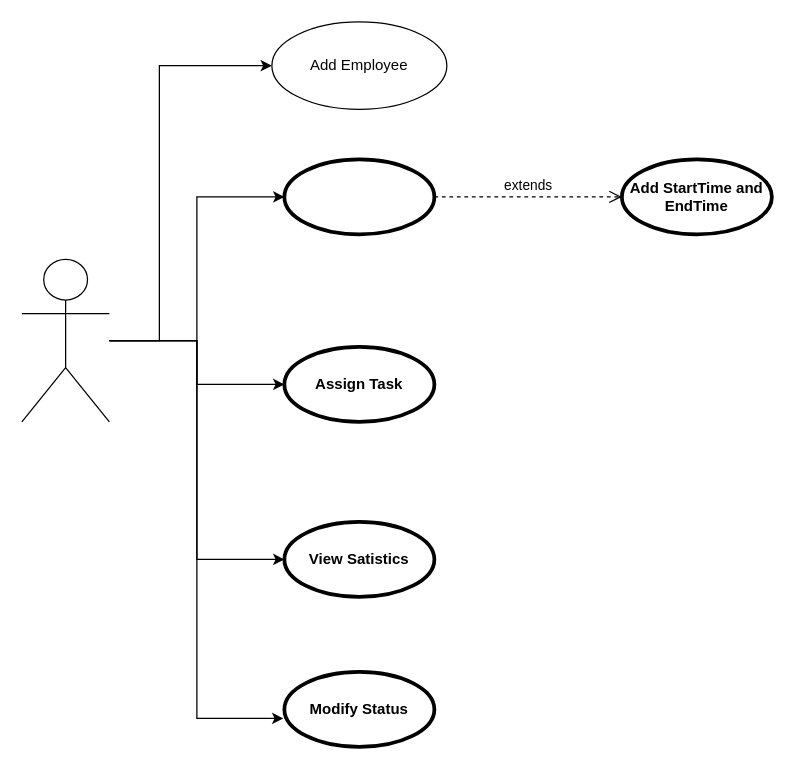
Image size: 795x770. Some labels were removed from this diagram. Here are the shapes that lost their labels. From the top down, the centre of each, then its label:
At point 359,196: "Add Task".
At point 65,340: "Actor".
